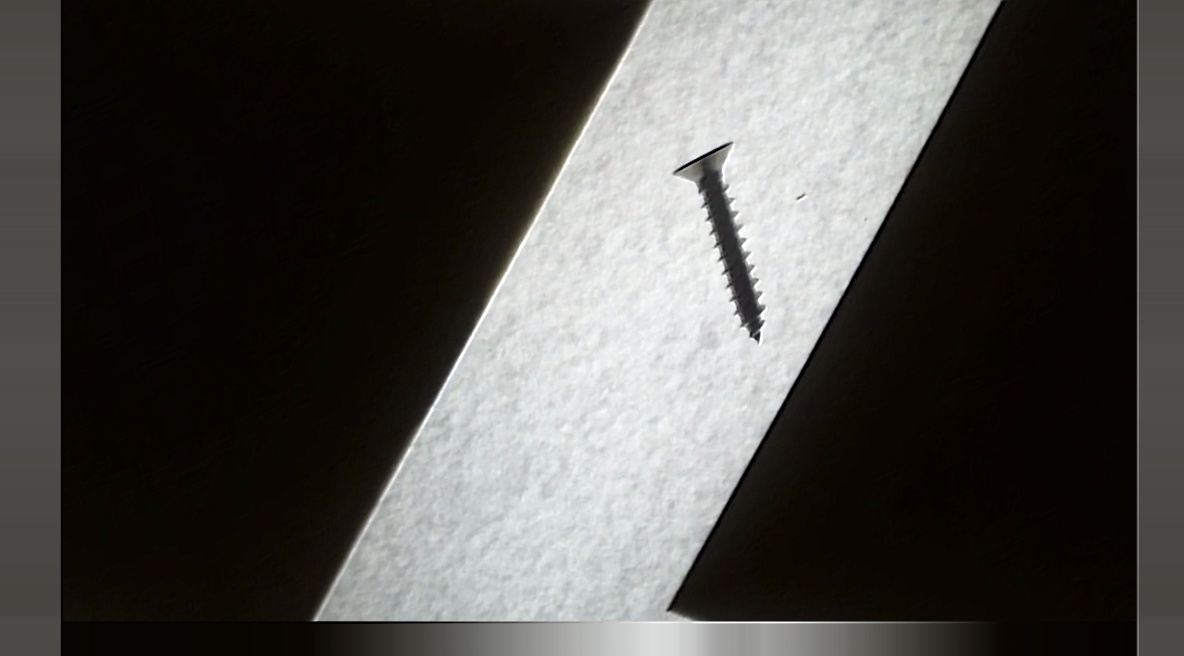S001: (661, 121, 797, 361)
